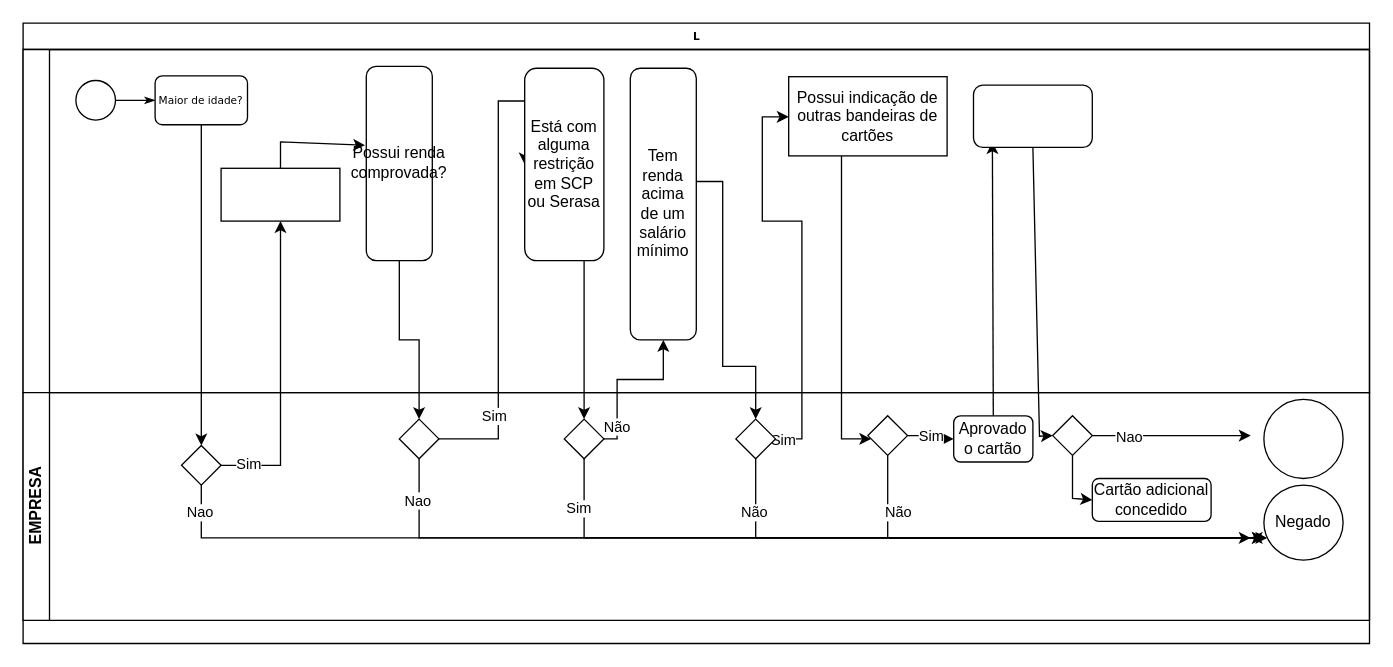
This 1393x667 diagram has some shape labels left out. Each missing label, with the box of its shape:
CLIENTE: (22, 48, 1370, 393)
Deseja algum cartão adicional: (972, 84, 1092, 147)
Finalizado Aprovado: (1263, 398, 1343, 478)
Pedido: (75, 79, 116, 120)
PREENCHIMENTO DE FORMULARIO: (220, 167, 340, 221)
